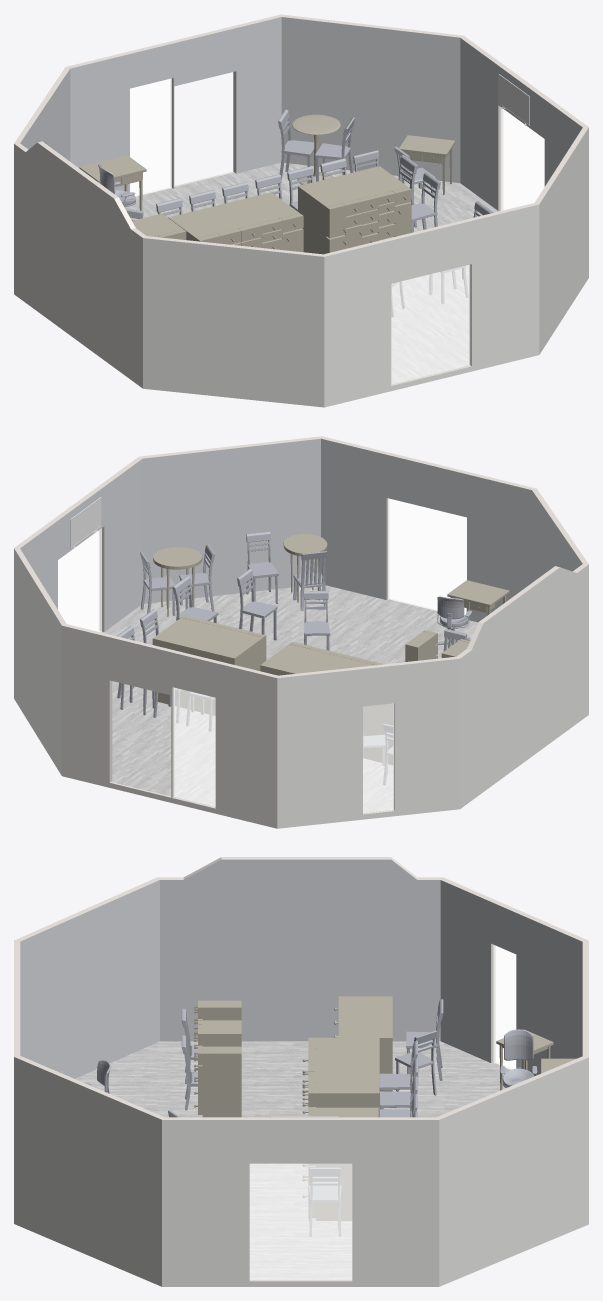
File: Elks_Lodge_Bar_Room.glb
3 views of the same model, one above another, from view 1: azimuth 30°, elevation 25°; view 2: azimuth 150°, elevation 25°; view 3: azimuth 270°, elevation 25° (orthographic). The views are drawn at different scales.
Parts seen in each view (by area): view 1: wall_2, wall_7, wall_18, wall_0, wall_20, floor_Bar_Room, wall_16, door_1, door_5, storage_cabinet_mid51, wall_1, storage_cabinet_mid50 (+21 smaller); view 2: wall_3, floor_Bar_Room, wall_6, wall_10, wall_0, wall_22, wall_16, door_1, wall_5, door_5, door_0, door_4 (+27 smaller); view 3: wall_8, wall_4, wall_5, wall_1, floor_Bar_Room, wall_12, wall_14, door_3, door_7, storage_cabinet_mid50, storage_cabinet_mid32, storage_cabinet_mid30 (+20 smaller).
Boxes of the visible parts, x1,y1,x2,y2 form: wall_2: (143,238,324,407); wall_7: (324,204,539,407); wall_18: (281,17,460,182); wall_0: (14,142,142,388); wall_20: (70,17,281,192); floor_Bar_Room: (124,162,500,384); wall_16: (460,38,582,210); door_1: (391,265,469,384); door_5: (391,265,469,383); storage_cabinet_mid51: (298,166,411,254); wall_1: (539,127,588,354); storage_cabinet_mid50: (168,192,303,252); wall_3: (277,658,459,828); floor_Bar_Room: (101,585,478,812); wall_6: (62,625,277,828); wall_10: (142,438,320,603); wall_0: (460,564,588,808); wall_22: (321,438,531,622); wall_16: (20,459,142,631); door_1: (388,498,466,614); wall_5: (14,548,61,775); door_5: (388,498,466,614); door_0: (174,688,215,806); door_4: (174,688,215,806); wall_8: (160,859,440,1041); wall_4: (162,1120,439,1286); wall_5: (439,1057,588,1286); wall_1: (14,1057,161,1286); floor_Bar_Room: (75,1041,510,1279); wall_12: (20,880,159,1078); wall_14: (440,880,582,1076); door_3: (250,1164,351,1279); door_7: (250,1164,351,1279); storage_cabinet_mid50: (302,1037,379,1117); storage_cabinet_mid32: (194,1046,241,1117); storage_cabinet_mid30: (334,996,392,1106).
Size of the model in its own units: 9.16 by 3.3 by 9.18.
59 materials, 1 textured.
